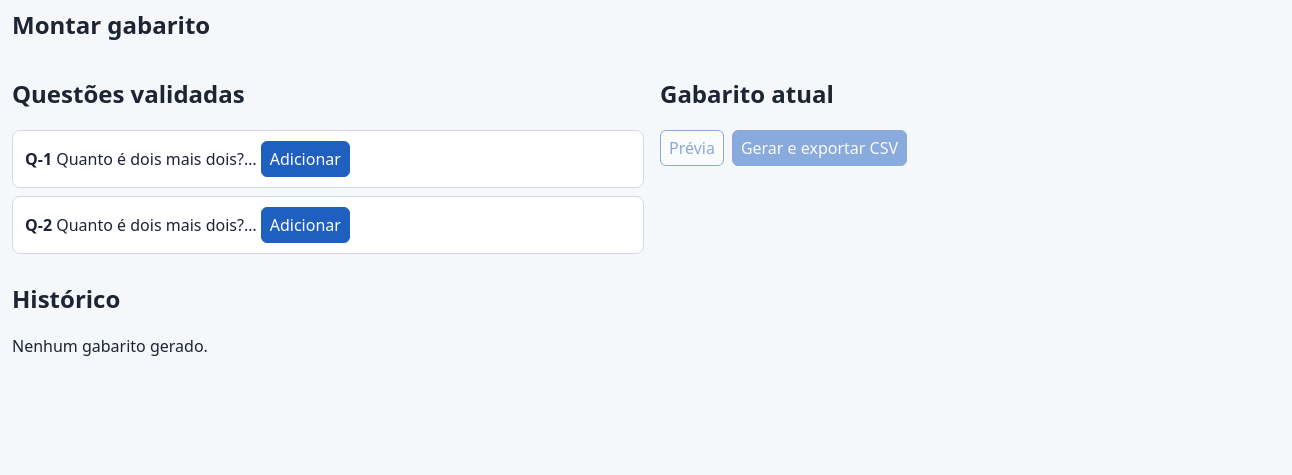
Test: Telas React › gabarito seleciona, reordena, exibe prévia e remove
Step 1. Click the 1st button "Adicionar" → (305, 159), box [261, 141, 350, 177]
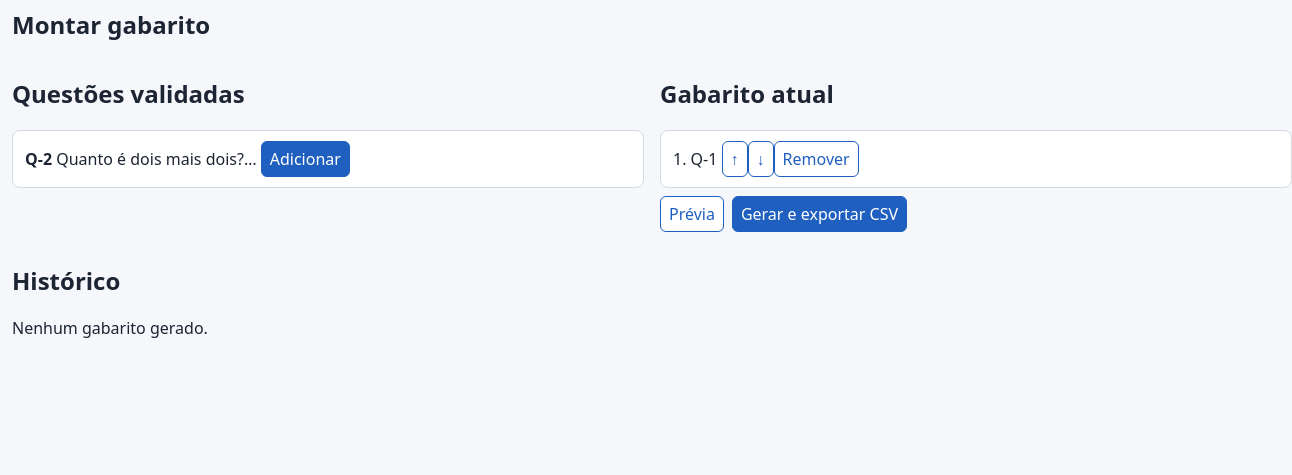
Step 2. Click the button "Adicionar" → (305, 159), box [261, 141, 350, 177]
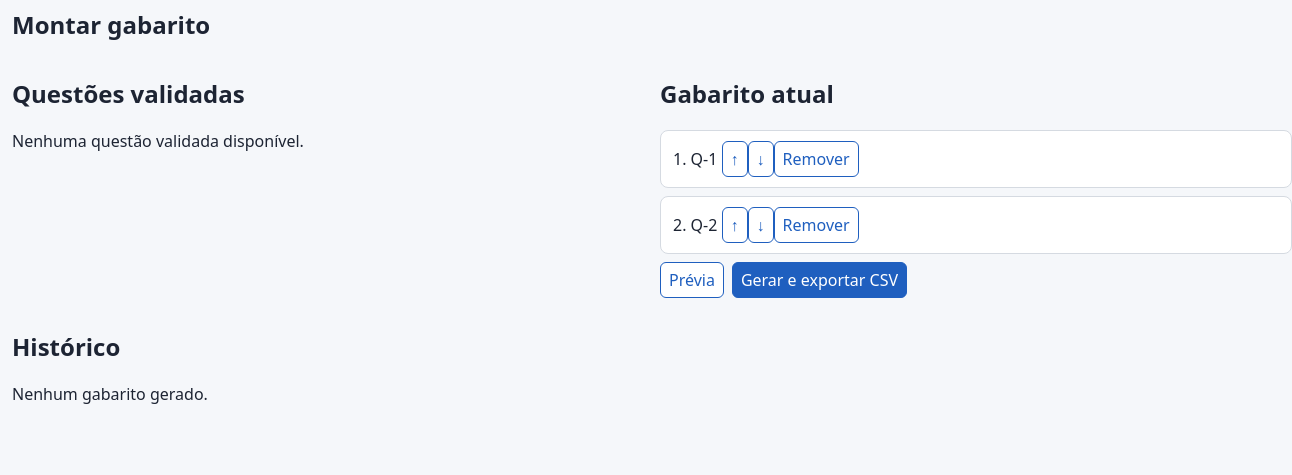
Step 3. Click the button named "Subir" → (735, 225), box [722, 207, 748, 243]
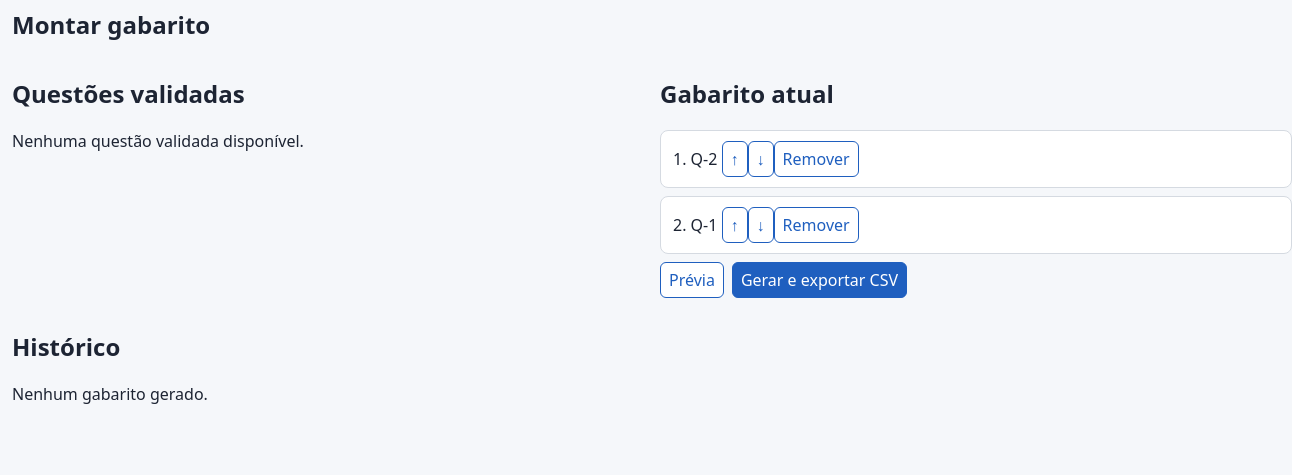
Step 4. Click the button "Prévia" → (692, 280), box [660, 262, 724, 298]
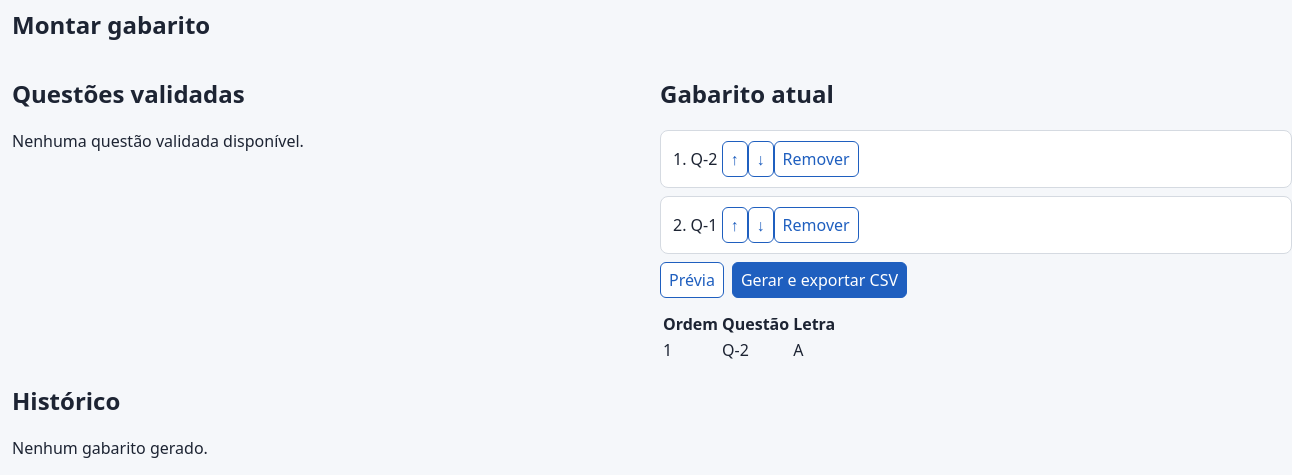
Expected: the table is shown, [660, 310, 838, 364]
Step 5. Click the 1st button "Remover" → (816, 159), box [774, 141, 859, 177]
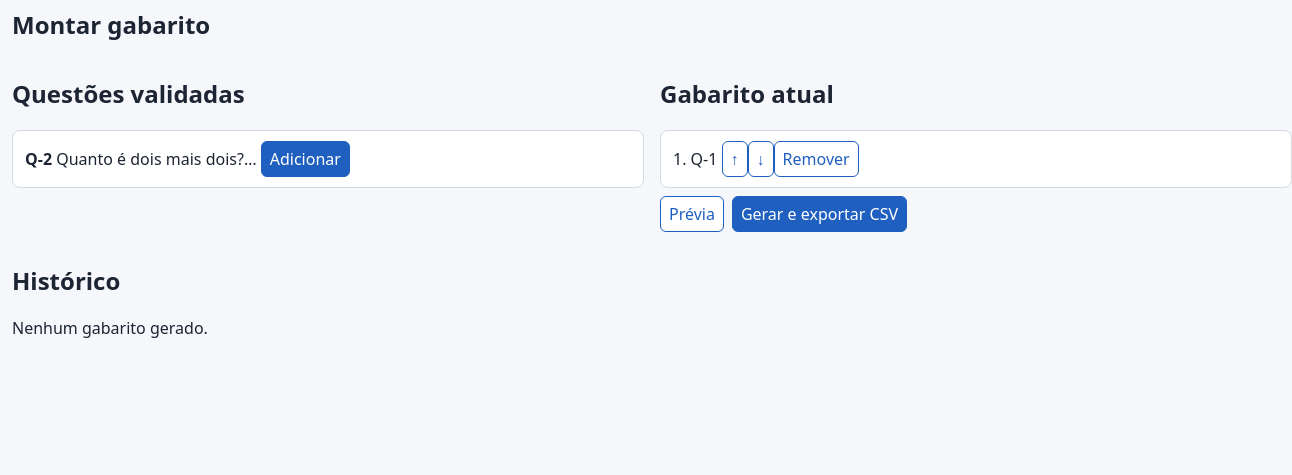
Expected: the table is gone
